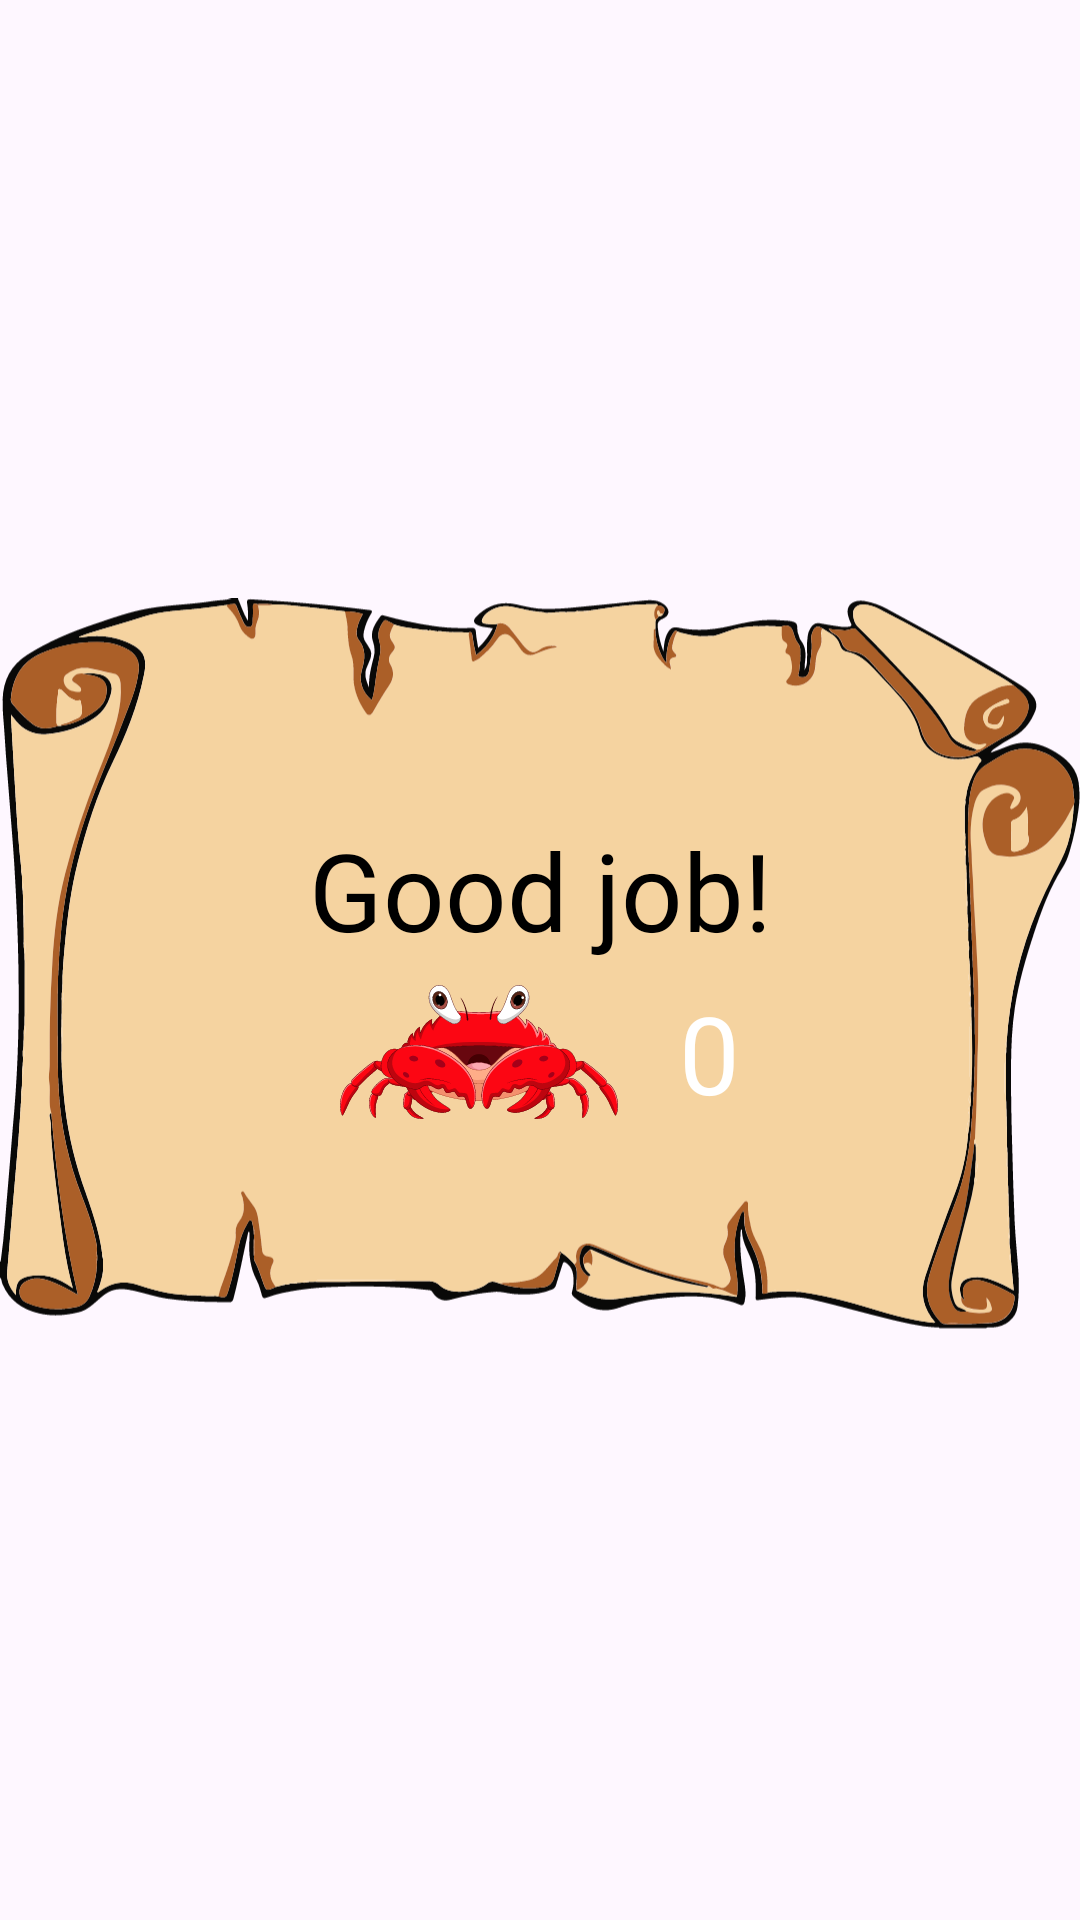

Locate icon controls on the screen. Image size 1080×1920, boxes as (x1, y1, x2, y2).
crab: (340, 985, 618, 1119)
